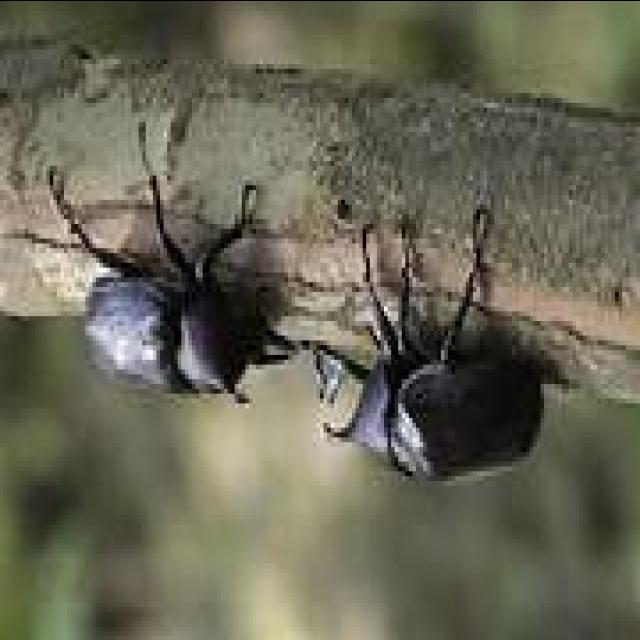Rhino-beetle: (313, 231, 546, 514), (82, 149, 288, 457)
